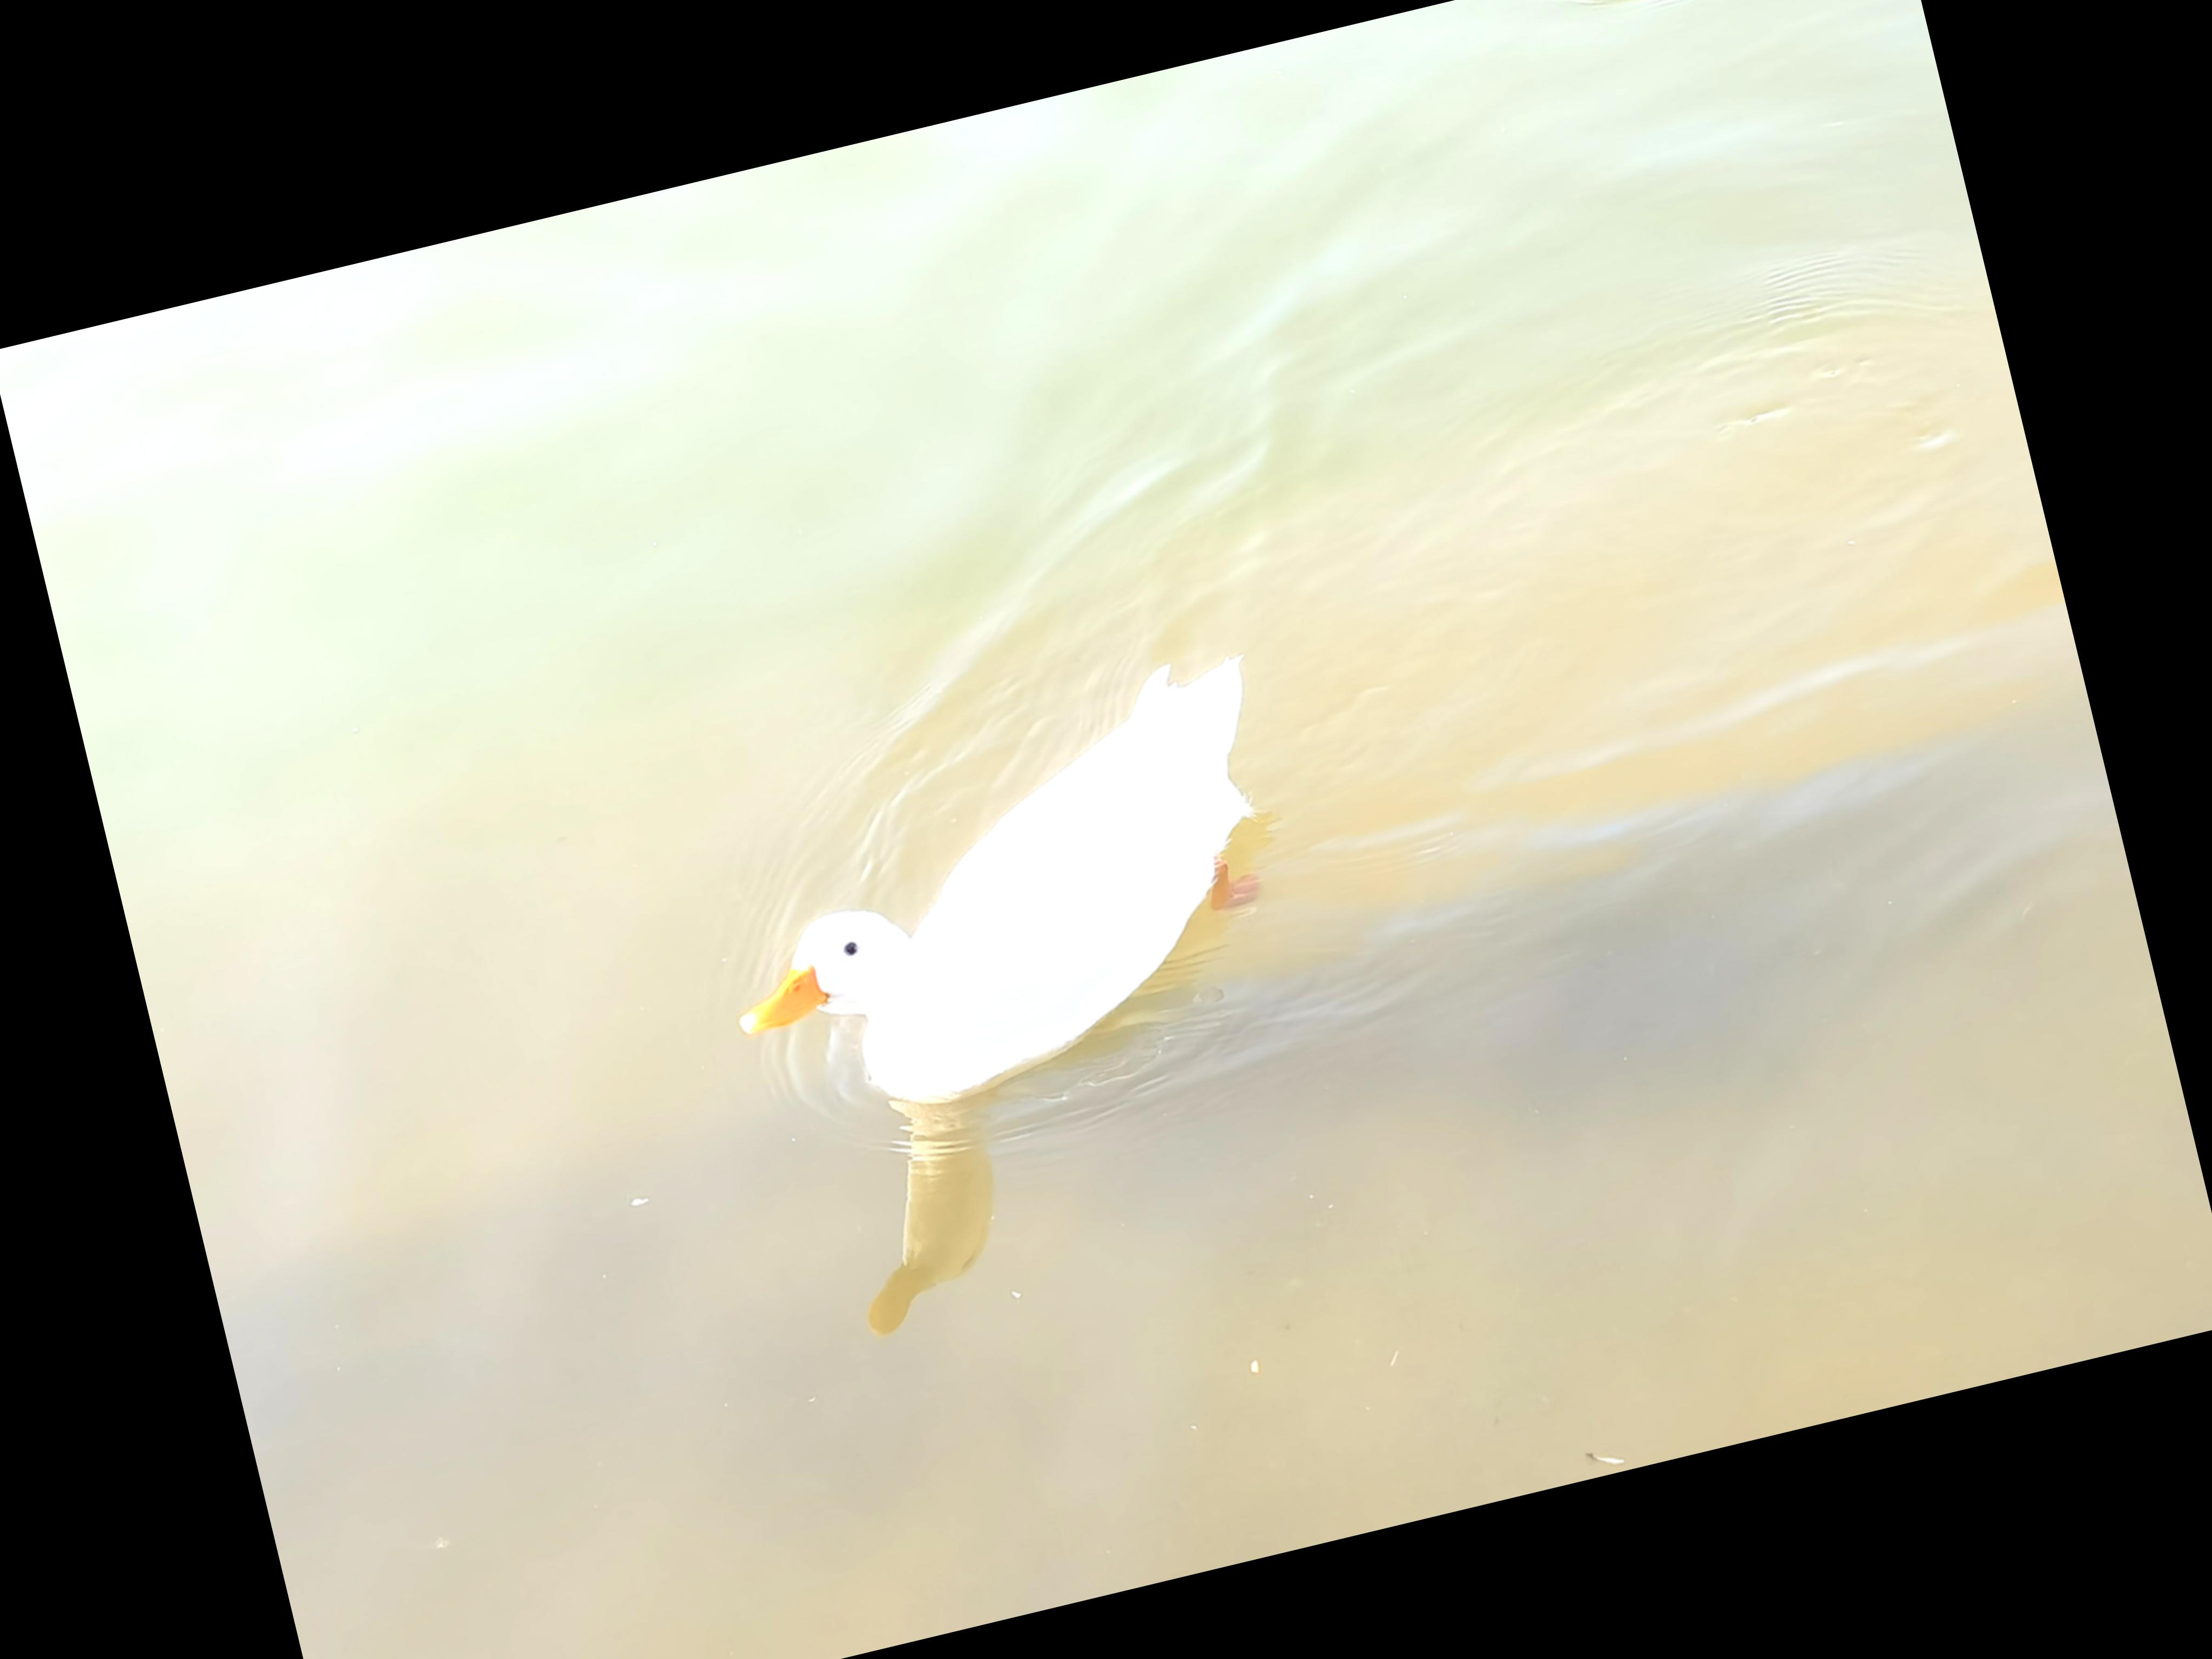duck: (660, 619, 1353, 1178)
